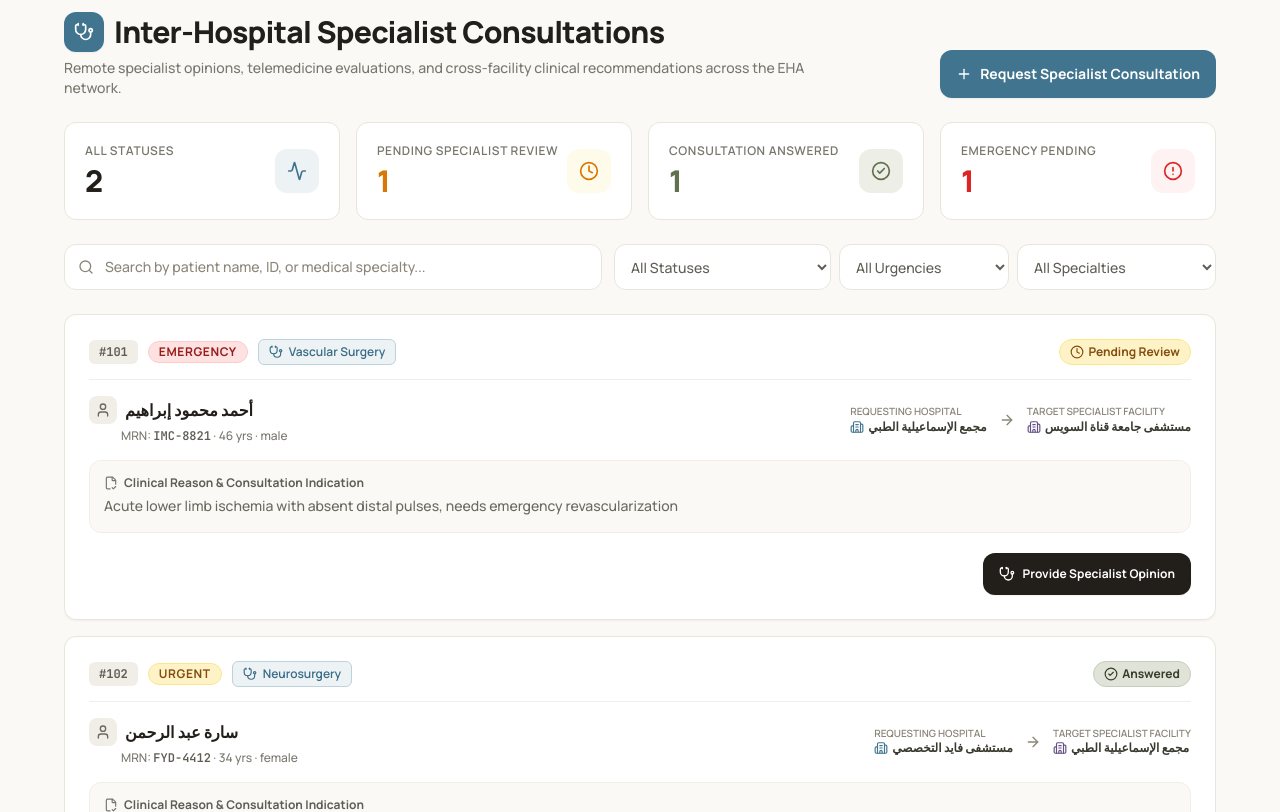
Scenario: ConsultationsPage › filters consultations by status
Select "Pending Specialist Review" in the 1st dropdown showing "All Statuses". click: (722, 267)
box: [614, 244, 831, 290]
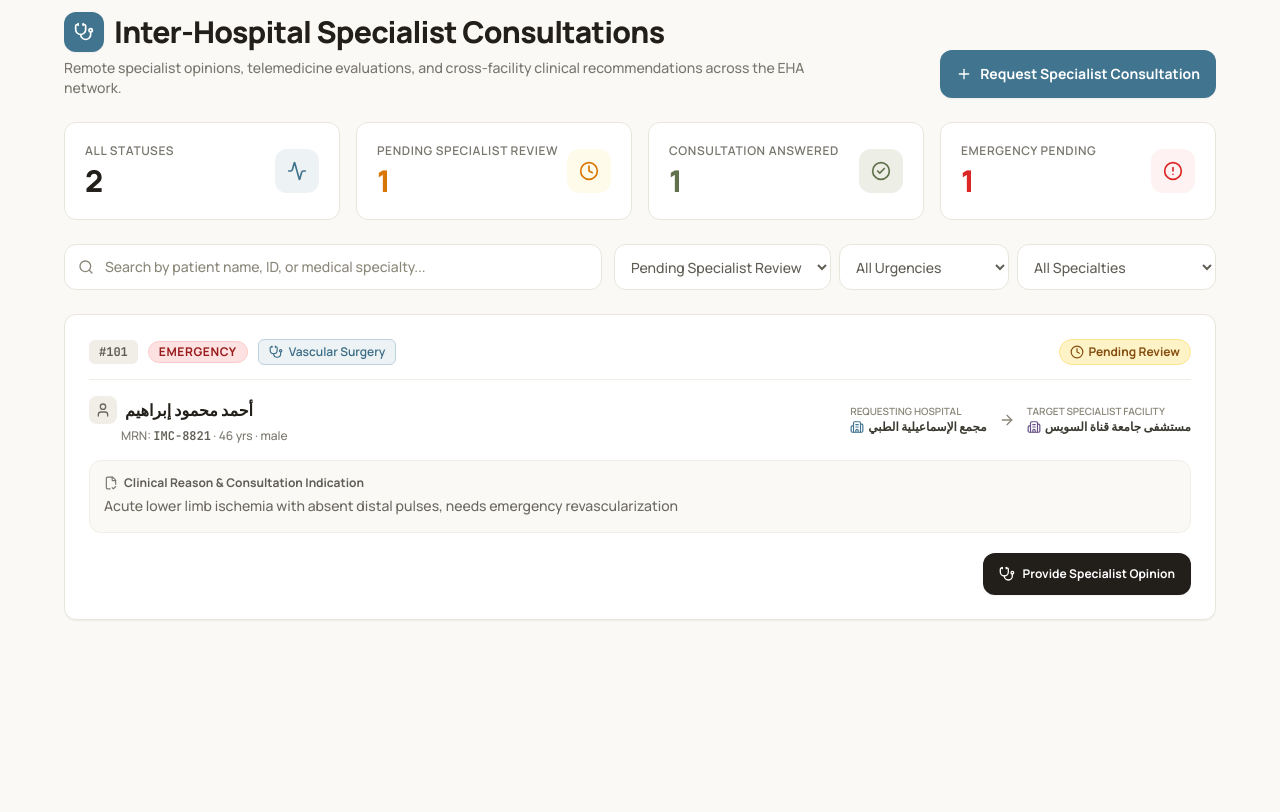
Check: the text "أحمد محمود إبراهيم" is shown, box [125, 398, 253, 422]
Check: the text "سارة عبد الرحمن" is gone
